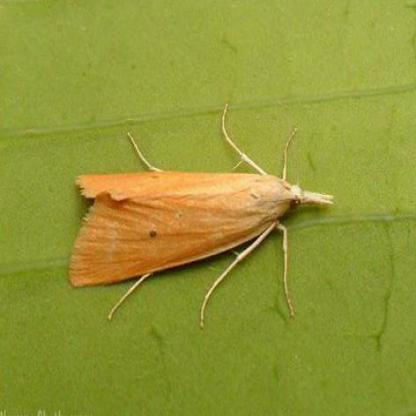stem-borer: (68, 148, 336, 303)
